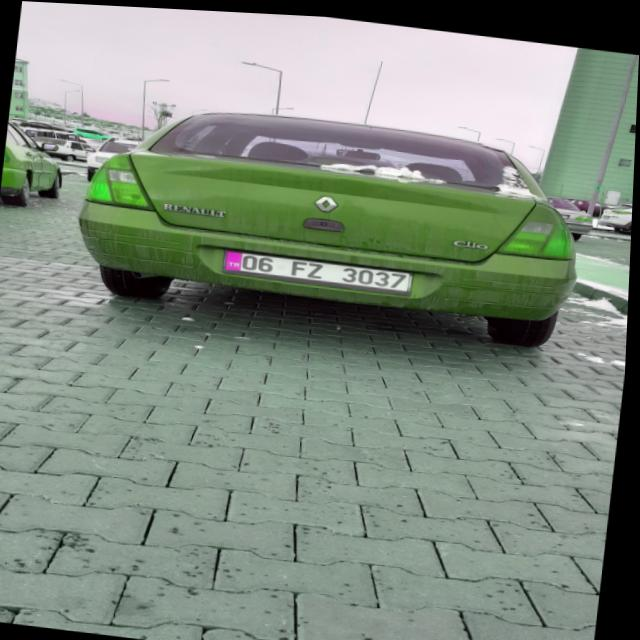license_plate: (225, 248, 414, 287)
